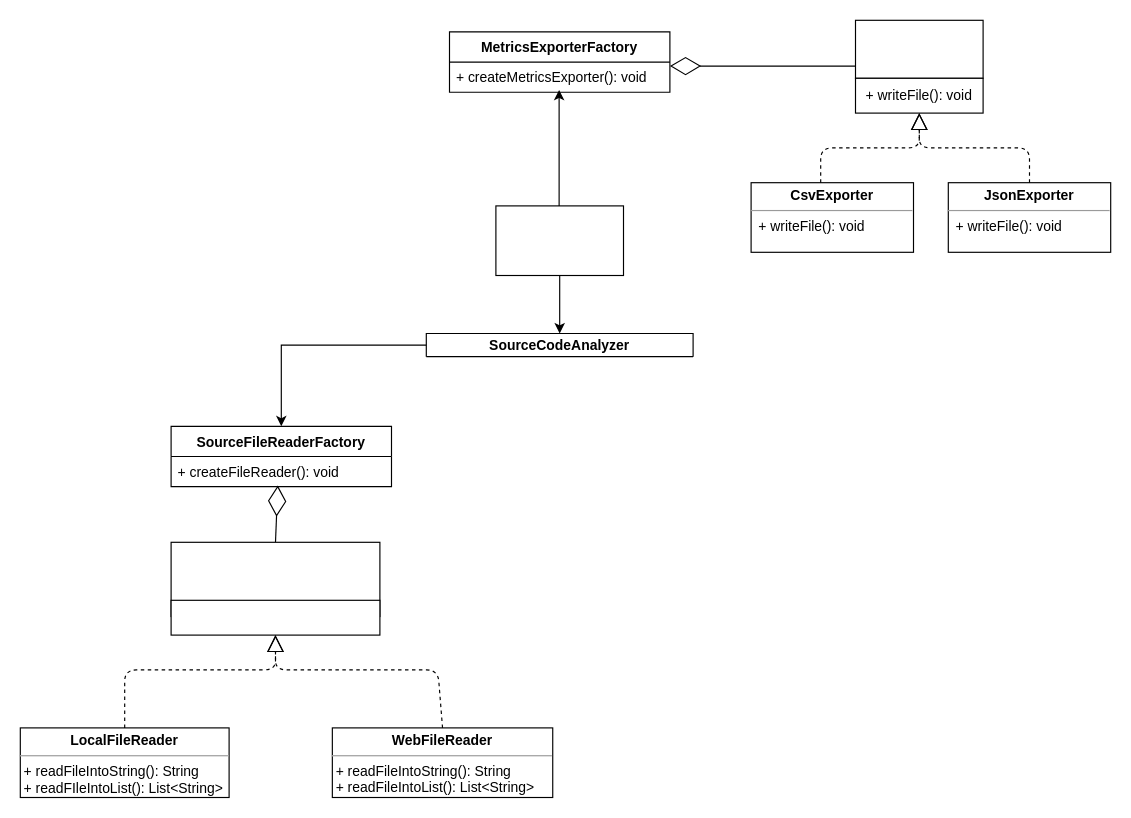
This 1131x818 diagram has some shape labels left out. The centre of each missing label's shape, as x and y in pixels:
+ readFileIntoString(): String + readFIleIntoList(): List<String>: [275,617]
DemoClient: [559,240]
«interface» MetricsExporter: [918,48]
«interface» SourceFileReader: [275,579]
